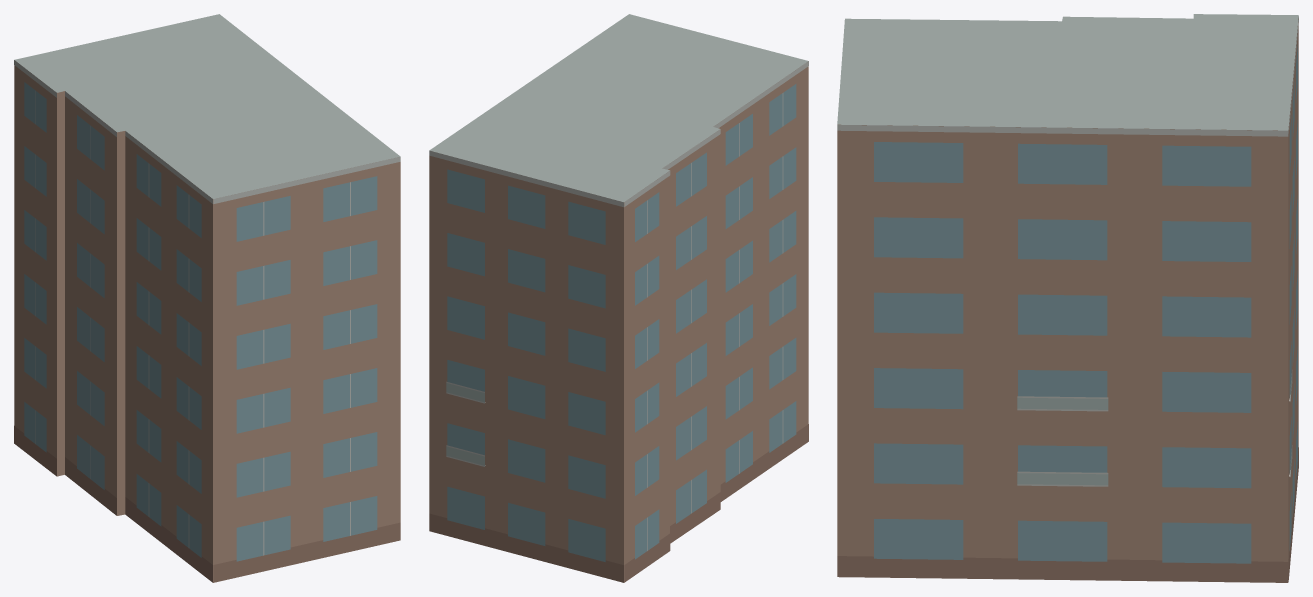
Rendered from survey-upis-32520602.glb.
3 views of the same model, side by side, from view 1: azimuth 30°, elevation 25°; view 2: azimuth 150°, elevation 25°; view 3: azimuth 270°, elevation 25° (orthographic). The views are drawn at different scales.
Parts seen in each view (by area): view 1: survey-upis-32520602.tmp; view 2: survey-upis-32520602.tmp; view 3: survey-upis-32520602.tmp.
Part boxes in pixels (x1,y1,x2,y2): survey-upis-32520602.tmp: (14,14,400,582); survey-upis-32520602.tmp: (429,14,808,582); survey-upis-32520602.tmp: (837,14,1298,582).
Size of the model in its own units: 10.13 by 18.3 by 16.94.
